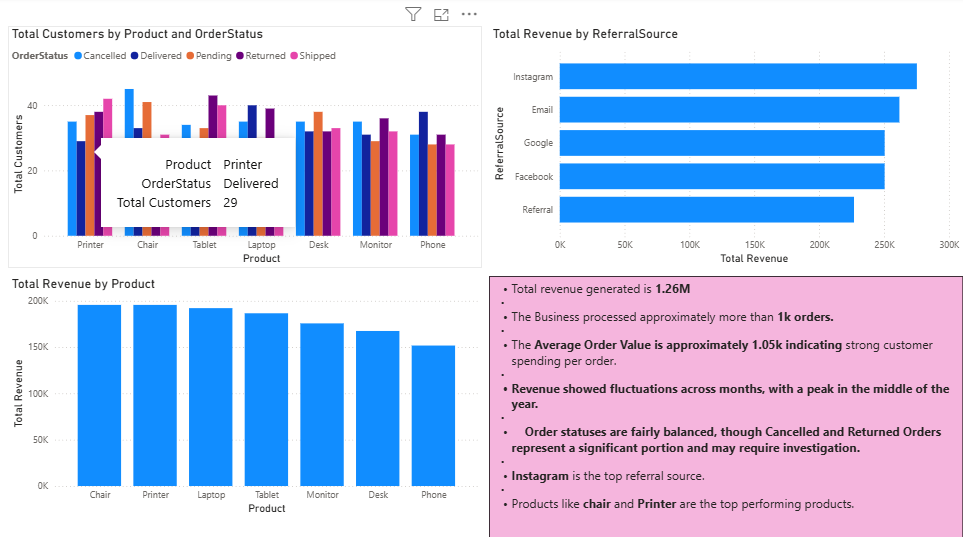

Layout of this report page (visuals, bound fields, positions):
{"tool":"powerbi","page":{"name":"Page 2","canvas":[1280,720],"ordinal":1},"visuals":[{"type":"clusteredColumnChart","fields":{"Category":["Sheet1.Product"],"Series":["Sheet1.OrderStatus"],"Y":["Sheet1.Total Customers"]},"box":[10,38,630,322],"z":0},{"type":"clusteredColumnChart","fields":{"Category":["Sheet1.Product"],"Y":["Sheet1.Total Revenue"]},"box":[10,370,630,322],"z":1000},{"type":"barChart","fields":{"Category":["Sheet1.ReferralSource"],"Y":["Sheet1.Total Revenue"]},"box":[650,38,630,322],"z":2000},{"type":"textbox","box":[650,370,630,350],"z":3000}]}

Visuals, with their boxes in screenshot pixels (x1, y1, x2, y2), scaled from the page's 1280x720 canvas onto the 963x537 screenshot:
clusteredColumnChart - Sheet1.Product x Sheet1.OrderStatus: pyautogui.locateOnScreen(8, 28, 482, 268)
clusteredColumnChart - Sheet1.Product x Sheet1.Total Revenue: pyautogui.locateOnScreen(8, 276, 482, 516)
barChart - Sheet1.ReferralSource x Sheet1.Total Revenue: pyautogui.locateOnScreen(489, 28, 962, 268)
textbox: pyautogui.locateOnScreen(489, 276, 962, 536)
